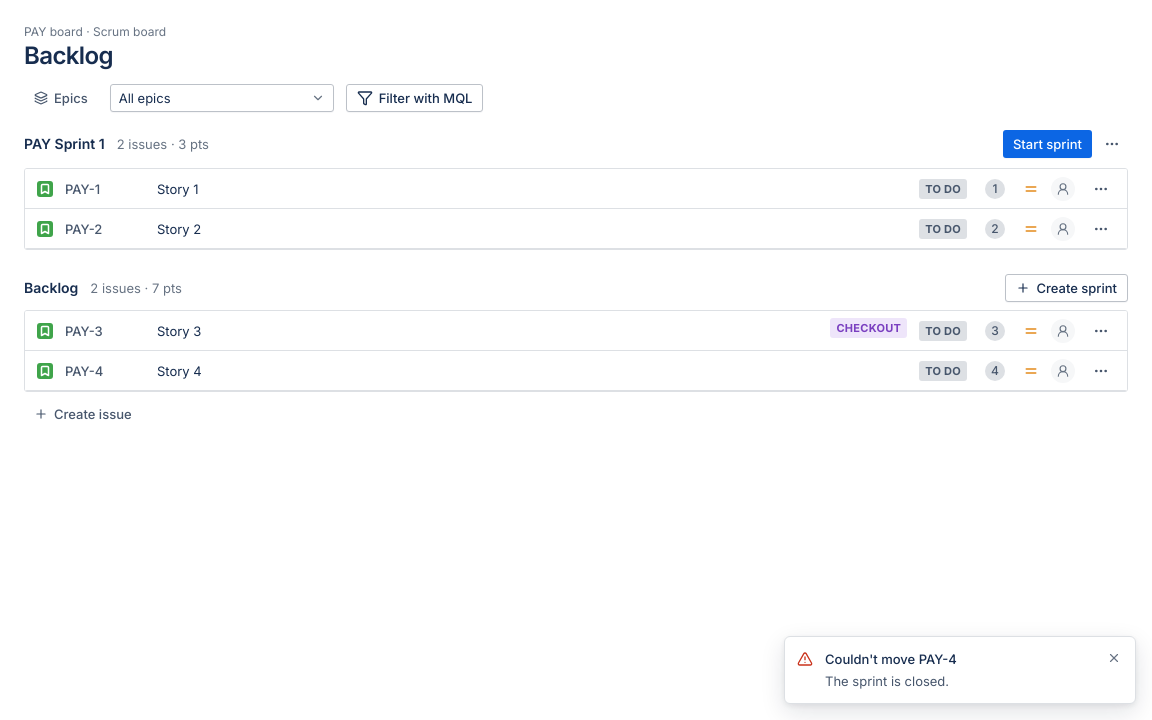
Test: backlog page › lists epics with their progress and filters by the one chosen
Click the button "Epics" at coordinates (61, 98), box [24,84,98,112]
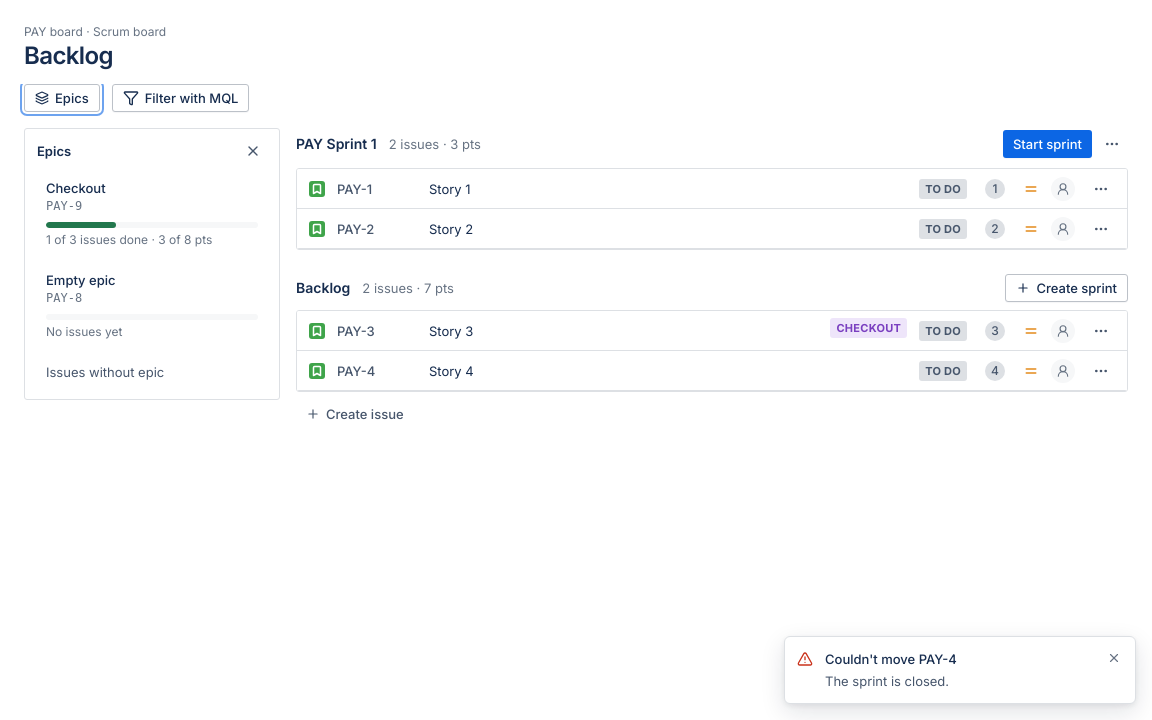
Expected: the text "1 of 3 issues done · 3 of 8 pts" is shown, [46,232,212,247]
Expected: the text "No issues yet" is shown, [46,324,122,339]
Click the button "Checkout PAY-9 1 of 3 issues done · 3 of 8 pts" at coordinates (152, 213), box [33,169,271,257]
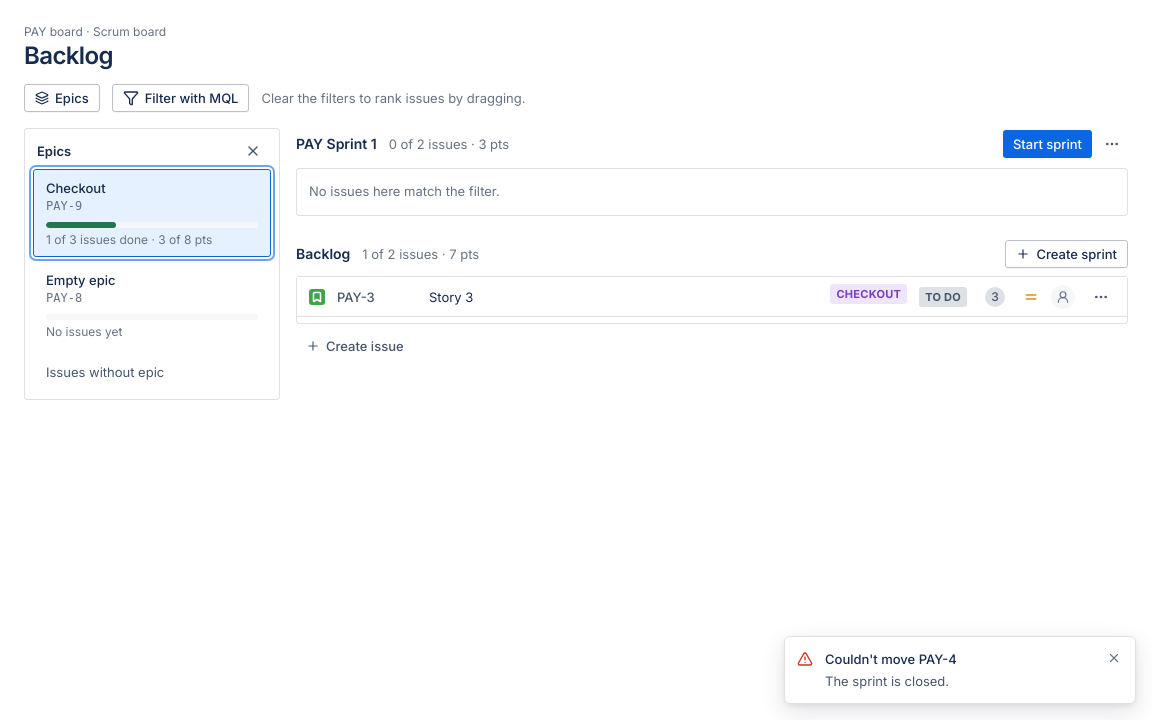
Expected: the button "Checkout PAY-9 1 of 3 issues done · 3 of 8 pts" is pressed
Click the button "Checkout PAY-9 1 of 3 issues done · 3 of 8 pts" at coordinates (152, 213), box [33,169,271,257]
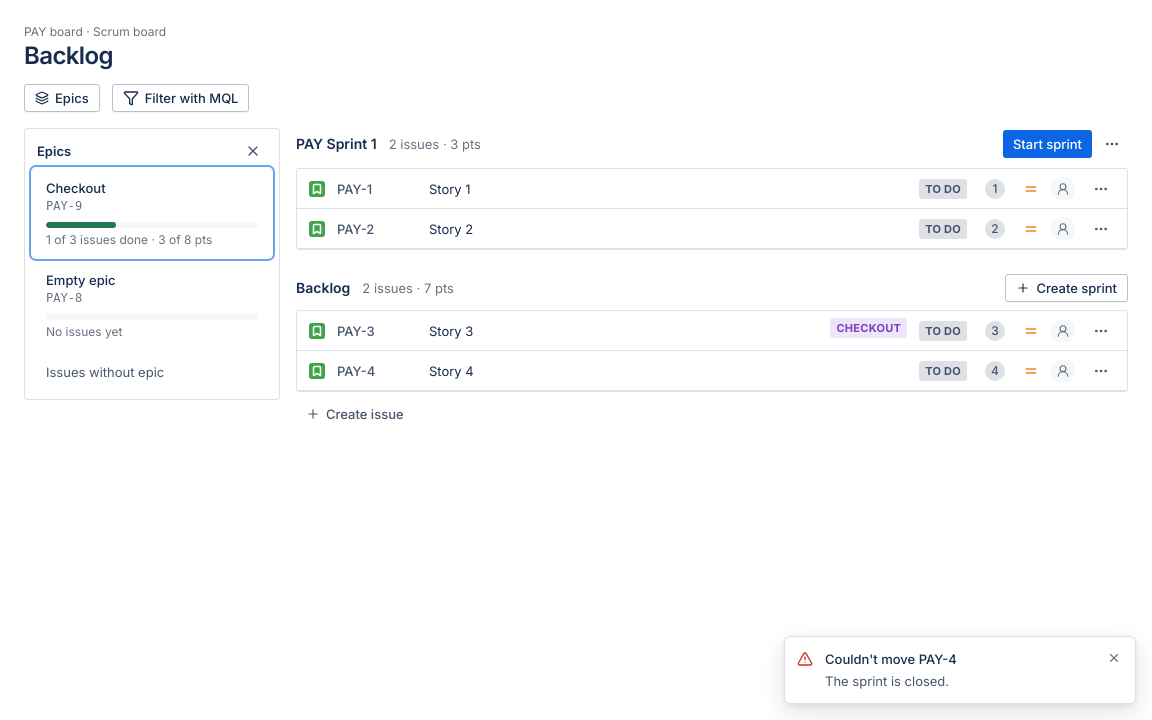
Expected: the link "PAY-4" is shown, [337,362,375,378]
Click the button named "Close epics" at coordinates (253, 151), box [239,137,267,165]
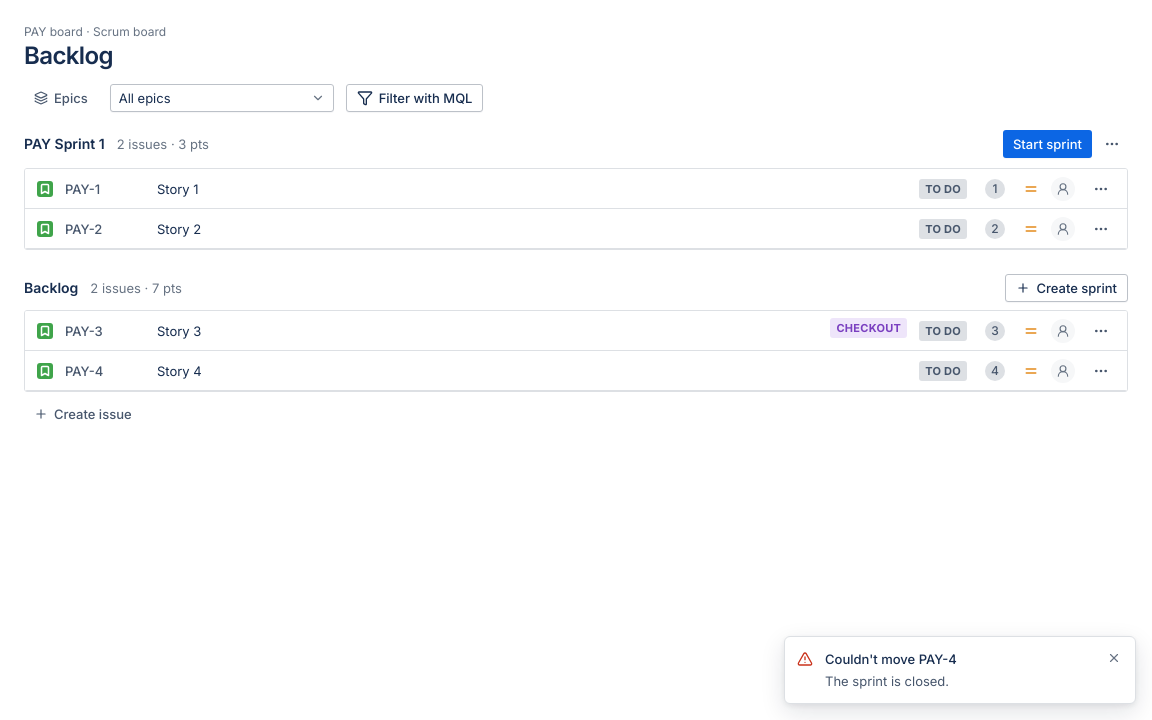
Expected: the dropdown named "Filter by epic" is shown, [110,84,334,112]
